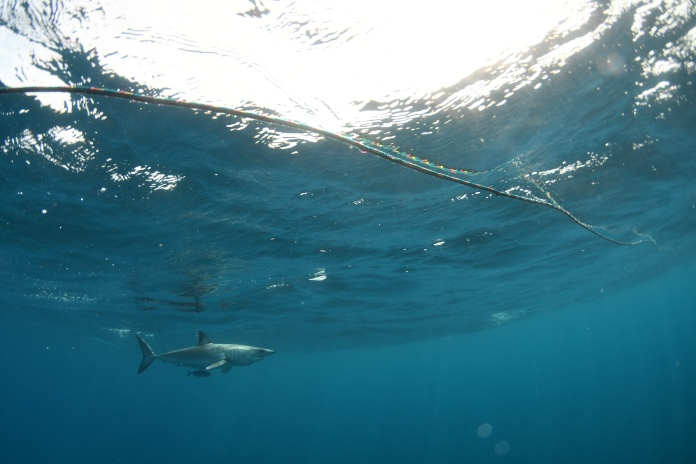Mako: (119, 327, 281, 384)
